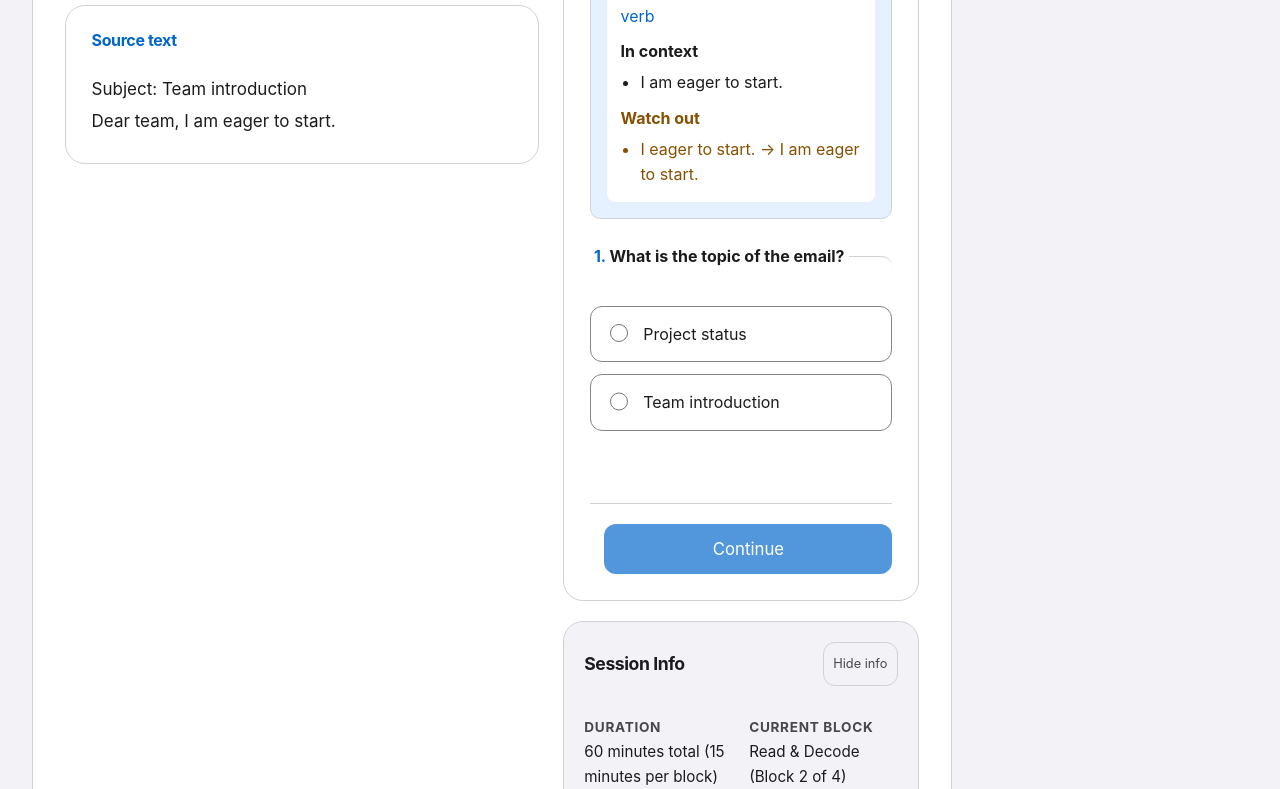
SessionShell and Activity Renderers › keeps the reading answer and Continue action together while preserving answer selection
(page scrolled)
Expected: the button "Continue" is disabled, [604,524,892,574]
Click the radio button labelled "Team introduction": (619, 401) [610,392,628,410]
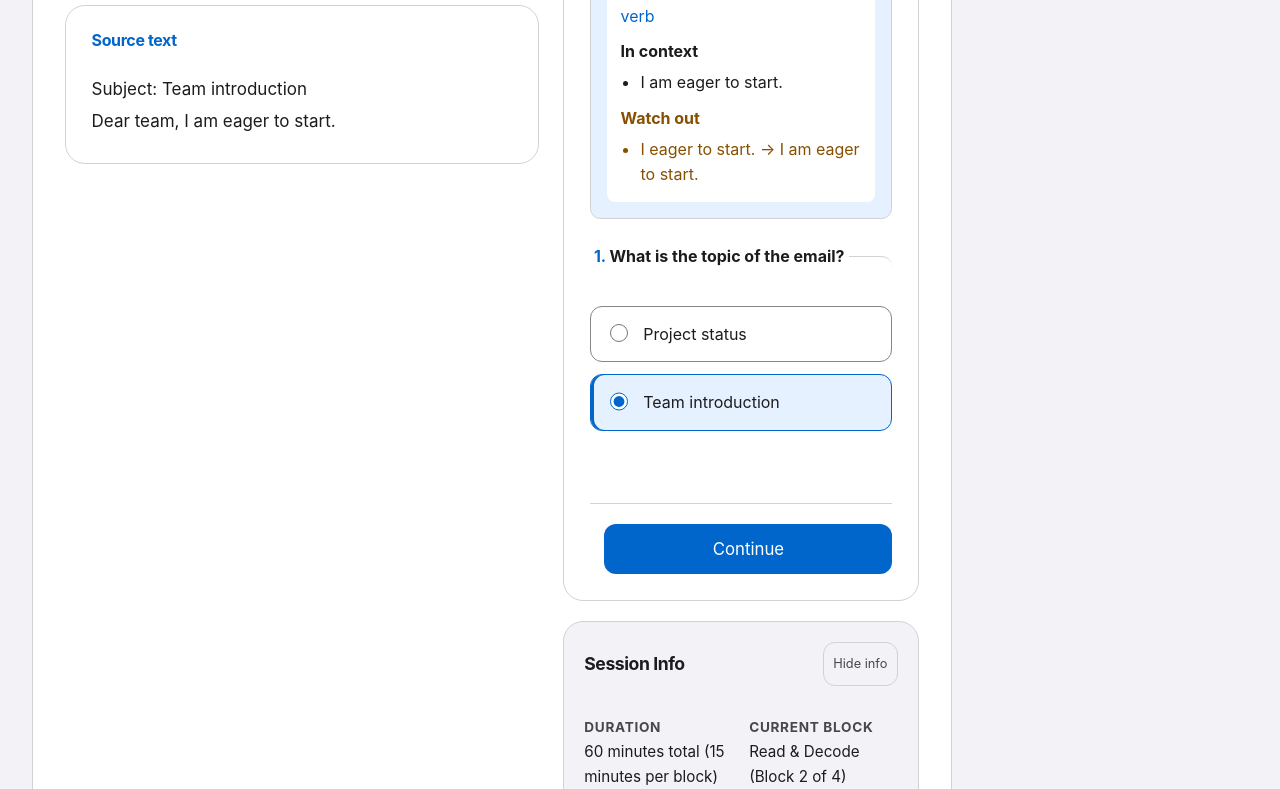
Expected: the element "Source text" shows "Dear team", [92,80,336,131]
Now the button "Continue" is enabled, box [604,524,892,574]
